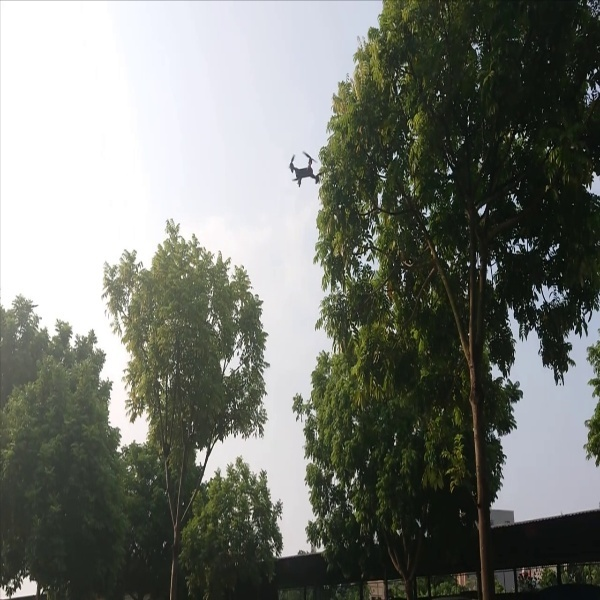drone: (280, 147, 322, 191)
